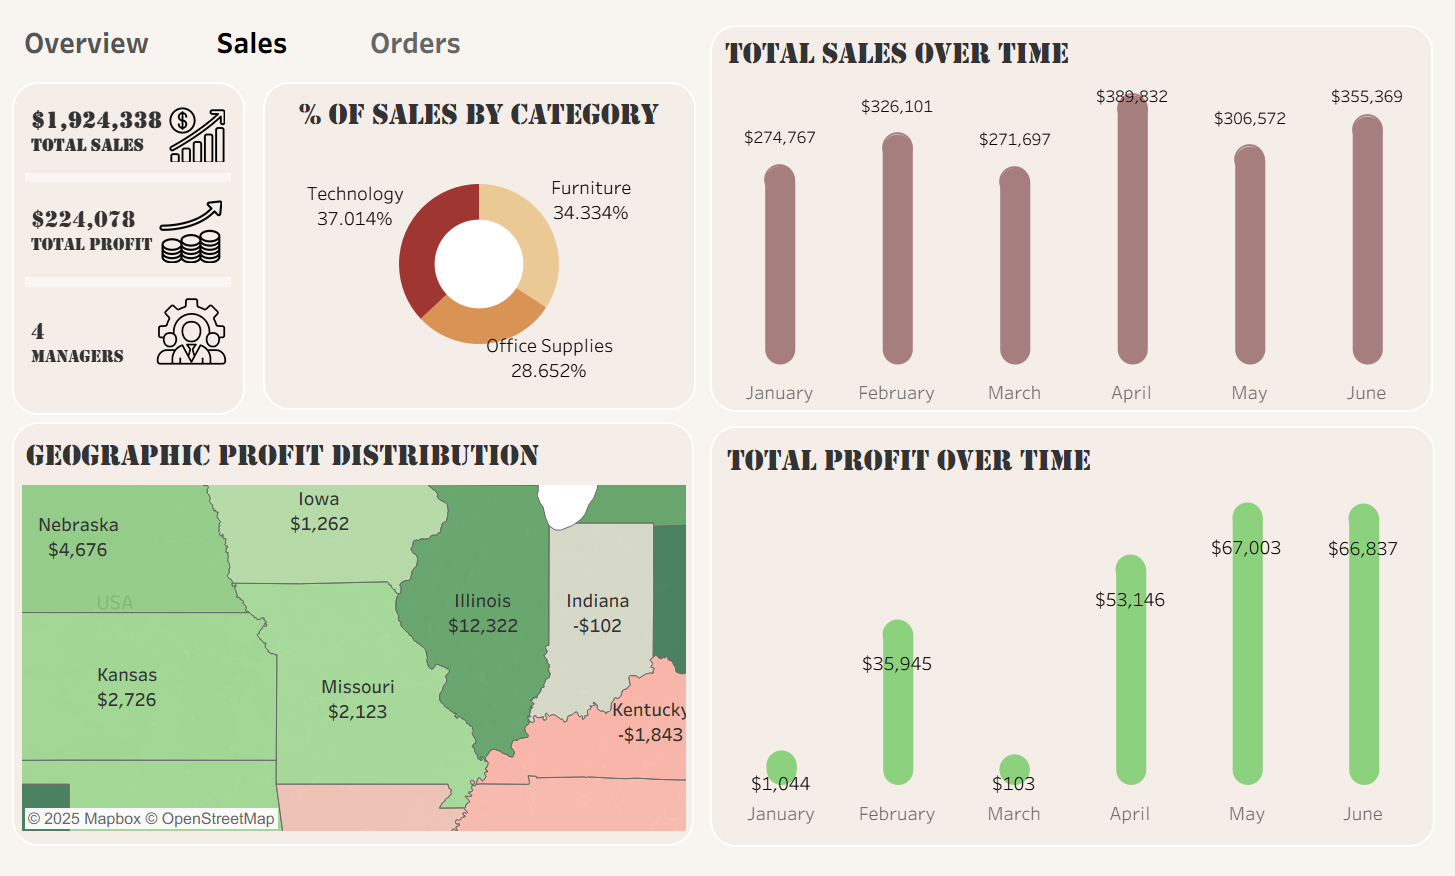

The page's visual inventory and layout, read from the dashboard file:
{"tool":"tableau","page":{"name":"Sales","canvas":[1000,1000],"units":"permille","ordinal":2},"visuals":[{"type":"image","param":"Image/Neutral Gold Beige Modern Luxury Watercolor Desktop Wallpaper.png","box":[2,4.6,994.6,997.7]},{"type":"worksheet","title":"db sales","mark":"Automatic","box":[4.7,6.9,986.5,986.2]},{"type":"dashboard-object","box":[8.1,27.3,111.5,50]},{"type":"text","box":[119.6,27.3,110.8,50]},{"type":"dashboard-object","box":[230.4,27.3,110.8,50]},{"type":"legend","title":"total profit over time","param":"[federated.0q8hgzd0c7jxbw1gwuzpp0ybnwqw].[:Measure Names]","box":[848.6,28.8,124.3,68]},{"type":"worksheet","title":"sales over time","mark":"Line","rows":["Sales"],"cols":["Order Date"],"box":[491.9,40.4,476.4,423.3]},{"type":"worksheet","title":"Total Sales","mark":"Automatic","box":[20.3,106.1,140.5,98.9]},{"type":"worksheet","title":"% of Sales by Category","mark":"Pie","rows":["Calculation_2331738752608624643","Calculation_2331738752608624643"],"box":[195.3,110.7,266.2,331]},{"type":"image","param":"Image/bar-chart_5567326.png","box":[118.9,125.7,46.6,63.4]},{"type":"text","box":[21.6,200.7,139.2,10.4]},{"type":"worksheet","title":"Total Profit","mark":"Automatic","box":[20.3,205,140.5,126.5]},{"type":"image","param":"Image/growth_12748449.png","box":[112.2,231.8,49.3,71.5]},{"type":"text","box":[21.6,319.5,139.2,11.5]},{"type":"worksheet","title":"# of Managers","mark":"Automatic","box":[20.3,331.4,140.5,126.5]},{"type":"image","param":"Image/team-management_10007874.png","box":[109.5,340.2,59.5,81.9]},{"type":"worksheet","title":"Profit per City","mark":"Automatic","box":[19.6,498.3,448.7,451]},{"type":"worksheet","title":"total profit over time","mark":"Line","rows":["Profit"],"cols":["Order Date"],"box":[493.2,502.9,472.3,439.4]}]}

Visuals, with their boxes on the dashboard's canvas, which has no fixed pixel size, in thousandths of its width and height (x1, y1, x2, y2). These are canvas units, not pixel positions in the 1455x876 screenshot, which may show the page scaled, cropped or inside an application window:
image: [x1=2, y1=5, x2=997, y2=1002]
"db sales" worksheet: [x1=5, y1=7, x2=991, y2=993]
dashboard-object: [x1=8, y1=27, x2=120, y2=77]
text: [x1=120, y1=27, x2=230, y2=77]
dashboard-object: [x1=230, y1=27, x2=341, y2=77]
"total profit over time" legend: [x1=849, y1=29, x2=973, y2=97]
"sales over time" worksheet (Line marks): [x1=492, y1=40, x2=968, y2=464]
"Total Sales" worksheet: [x1=20, y1=106, x2=161, y2=205]
"% of Sales by Category" worksheet (Pie marks): [x1=195, y1=111, x2=462, y2=442]
image: [x1=119, y1=126, x2=166, y2=189]
text: [x1=22, y1=201, x2=161, y2=211]
"Total Profit" worksheet: [x1=20, y1=205, x2=161, y2=332]
image: [x1=112, y1=232, x2=162, y2=303]
text: [x1=22, y1=320, x2=161, y2=331]
"# of Managers" worksheet: [x1=20, y1=331, x2=161, y2=458]
image: [x1=110, y1=340, x2=169, y2=422]
"Profit per City" worksheet: [x1=20, y1=498, x2=468, y2=949]
"total profit over time" worksheet (Line marks): [x1=493, y1=503, x2=966, y2=942]
